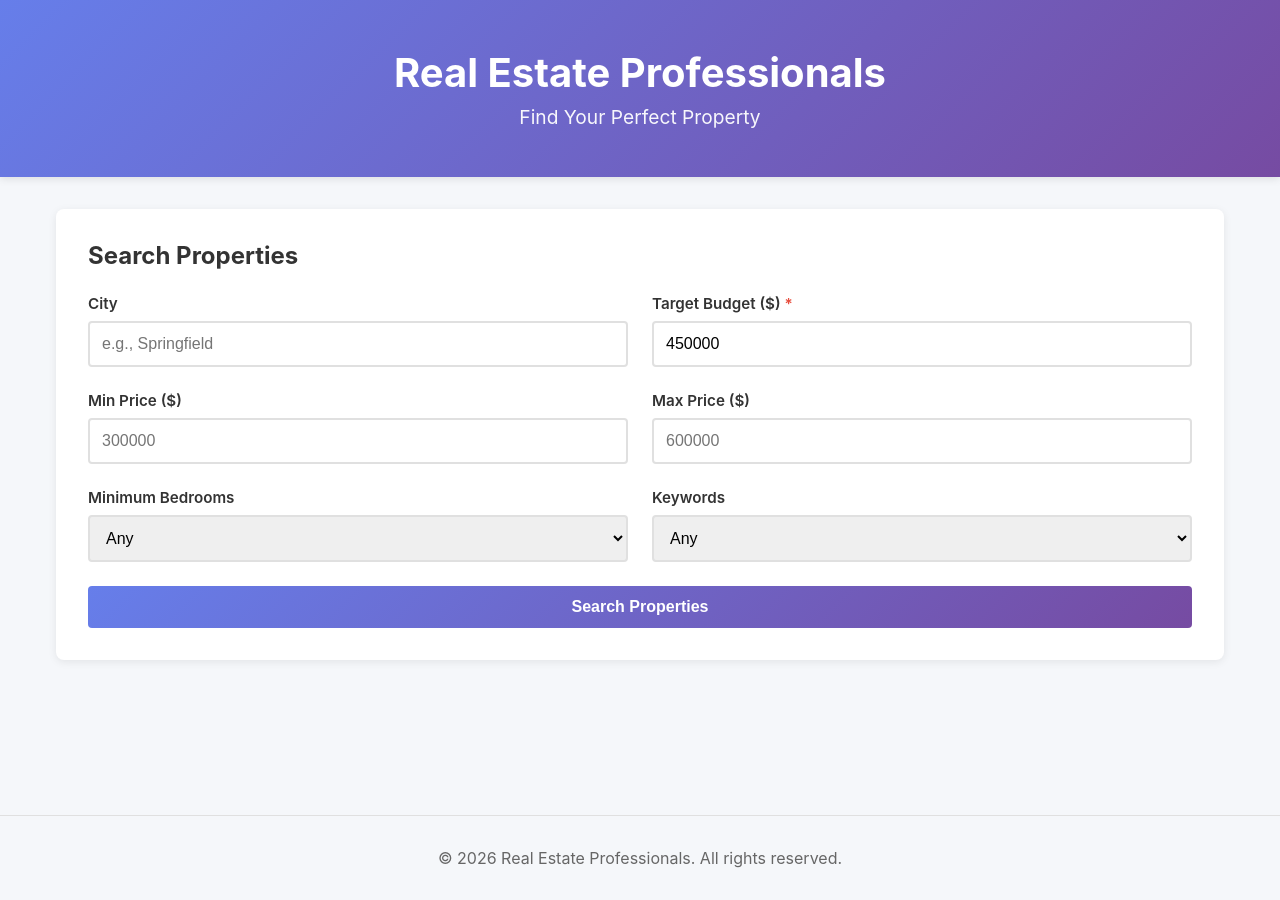
Test: App results pagination › shows the server error message when a search fails
Step 1. Click the button "Search Properties" → [640, 607], box [88,586,1192,628]
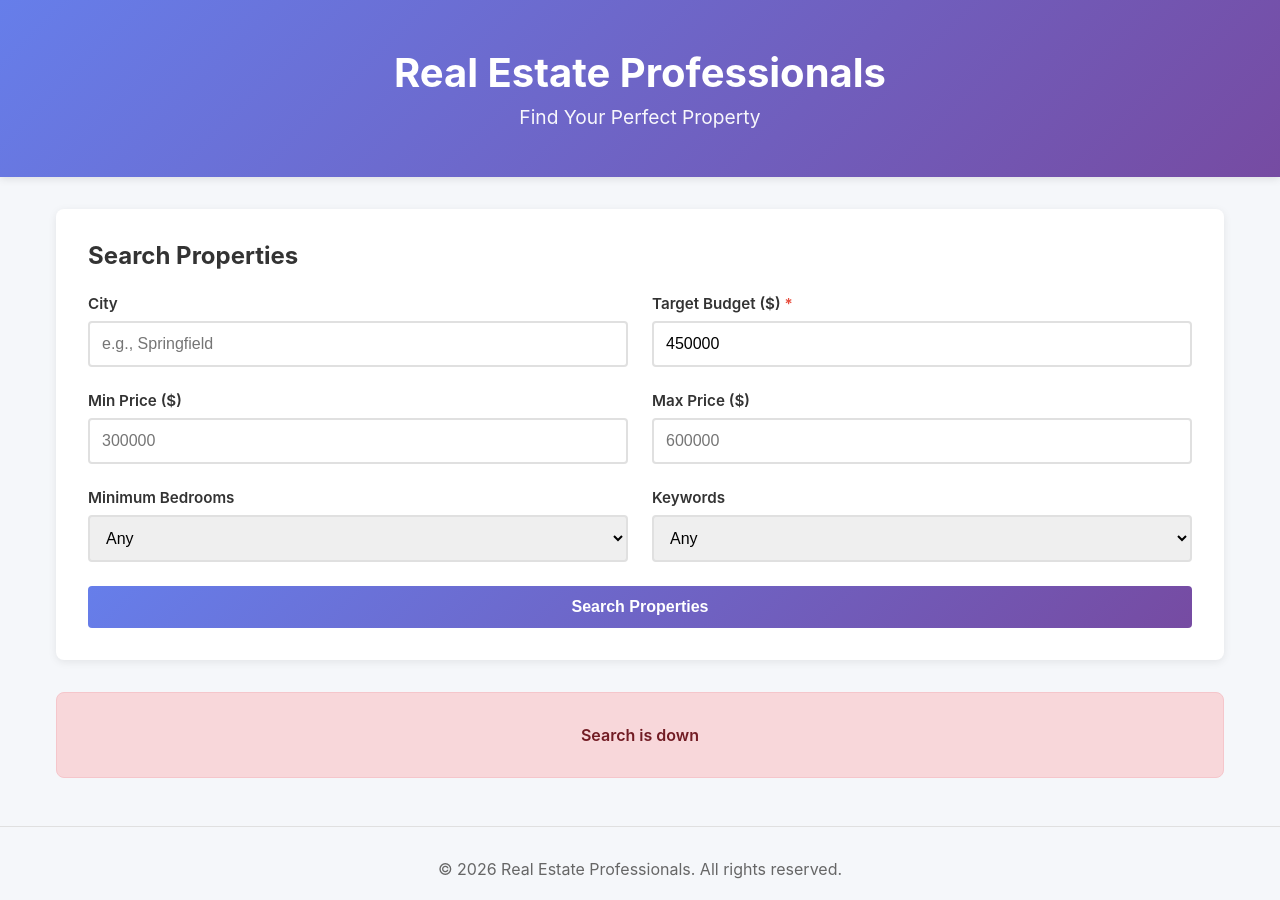
Expected: the text "Search is down" is shown, [581,725,699,745]
